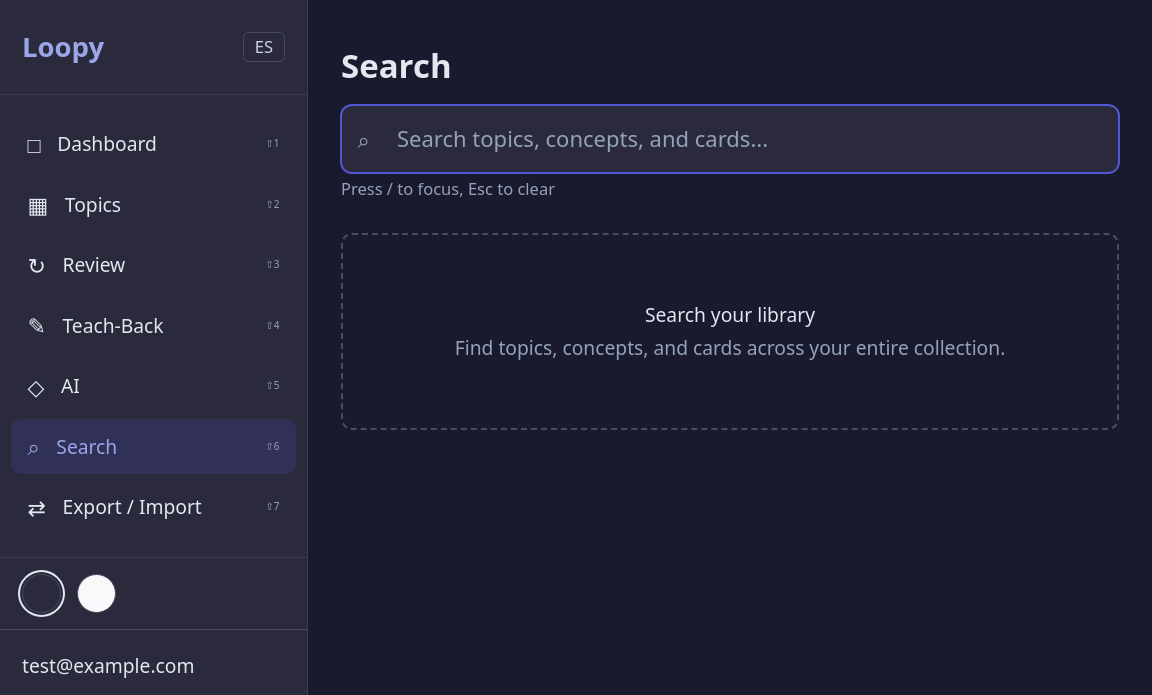
E2E-style Integration Tests › Search flow -> type query -> see results › searches for a topic and sees results
Expected: the heading "Search" is shown, [341,43,452,88]
# Type a search query
Type "JavaScript" into the field with placeholder "Search topics, concepts, and cards..." at (730,138), box [341,104,1119,172]
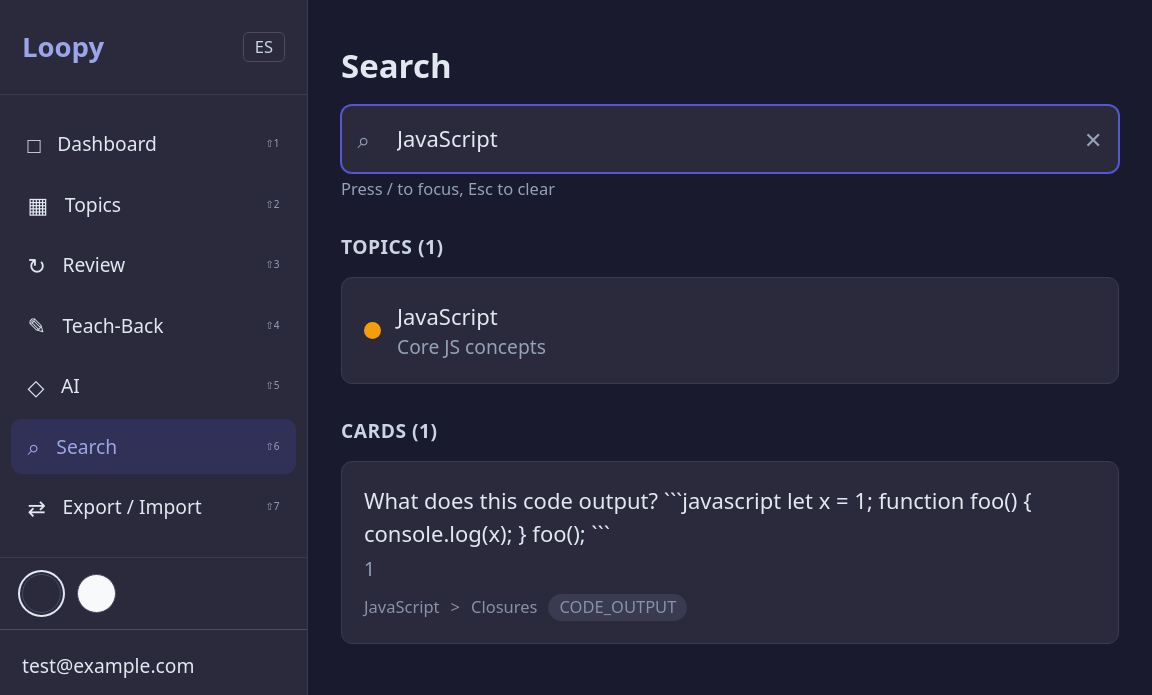
Result: the heading "Topics (1)" is shown at [341,233,443,260]
